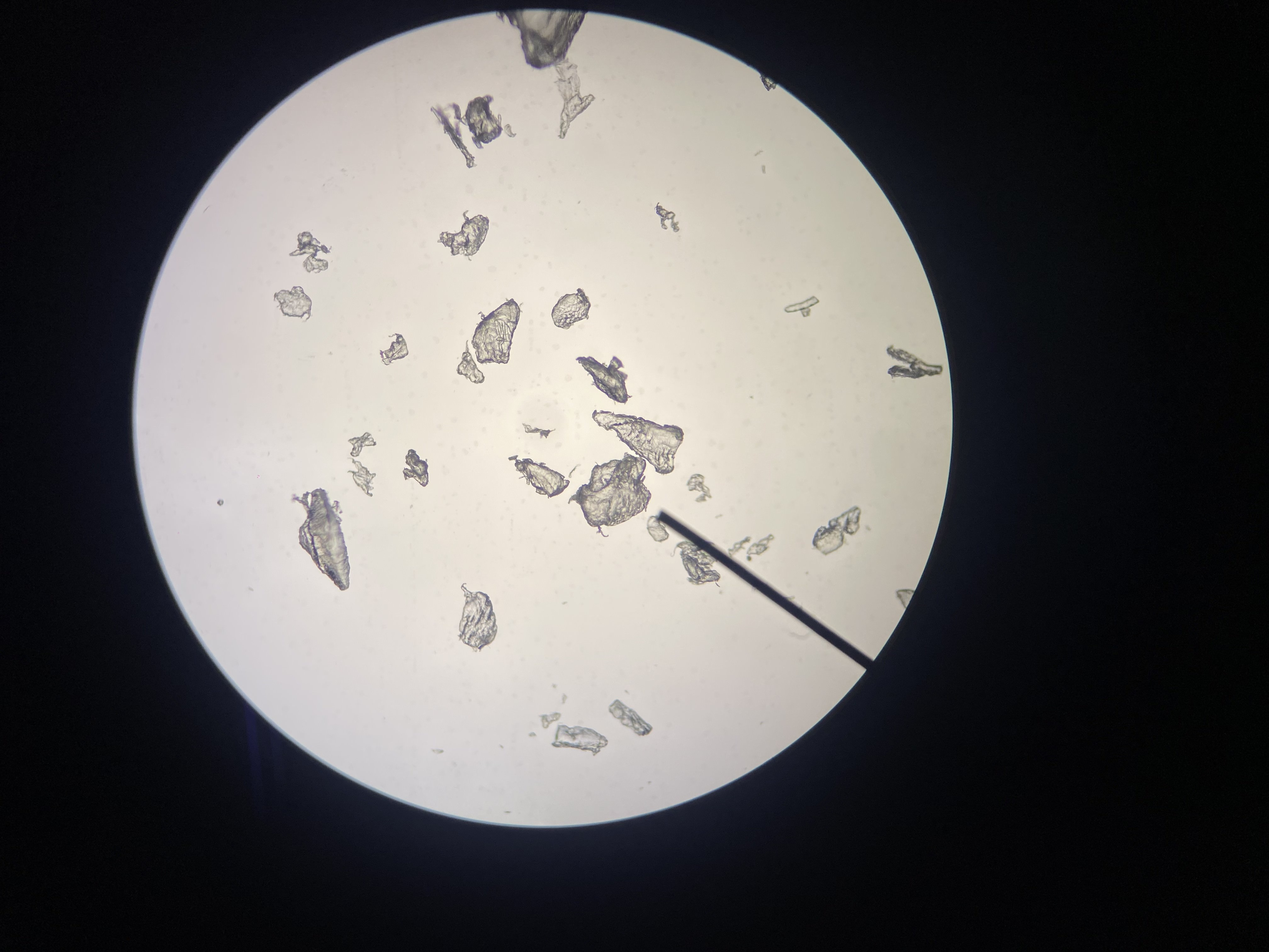microplastic: (567, 452, 651, 537), (291, 487, 350, 591), (592, 410, 684, 475), (496, 7, 589, 70), (431, 95, 503, 168), (551, 57, 595, 139), (471, 298, 523, 365), (575, 356, 633, 405), (457, 583, 498, 652), (508, 455, 570, 499), (437, 210, 489, 261), (812, 506, 861, 556), (670, 541, 721, 587), (887, 344, 943, 379), (289, 231, 332, 273), (550, 725, 608, 756), (551, 287, 591, 330), (608, 699, 653, 736), (274, 286, 312, 322), (456, 340, 485, 384), (728, 534, 774, 561), (347, 457, 376, 497), (403, 449, 429, 487), (380, 333, 408, 365), (686, 473, 713, 503), (654, 202, 680, 232), (784, 296, 820, 317), (347, 432, 377, 457), (646, 516, 669, 544), (522, 423, 556, 439), (895, 588, 916, 609), (539, 712, 561, 728), (759, 72, 777, 91), (551, 684, 567, 705), (754, 150, 766, 174), (568, 464, 581, 478), (505, 124, 516, 138), (217, 499, 224, 506), (528, 732, 537, 737)
